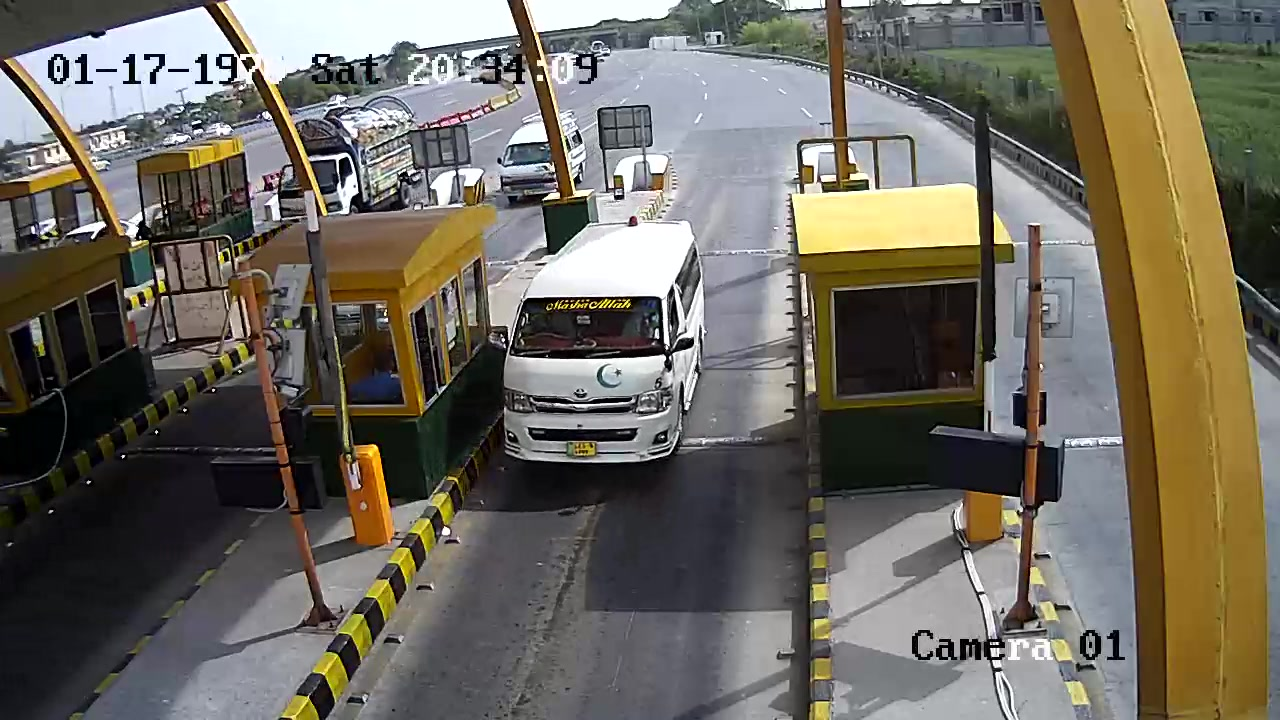F3: (487, 201, 732, 527)
